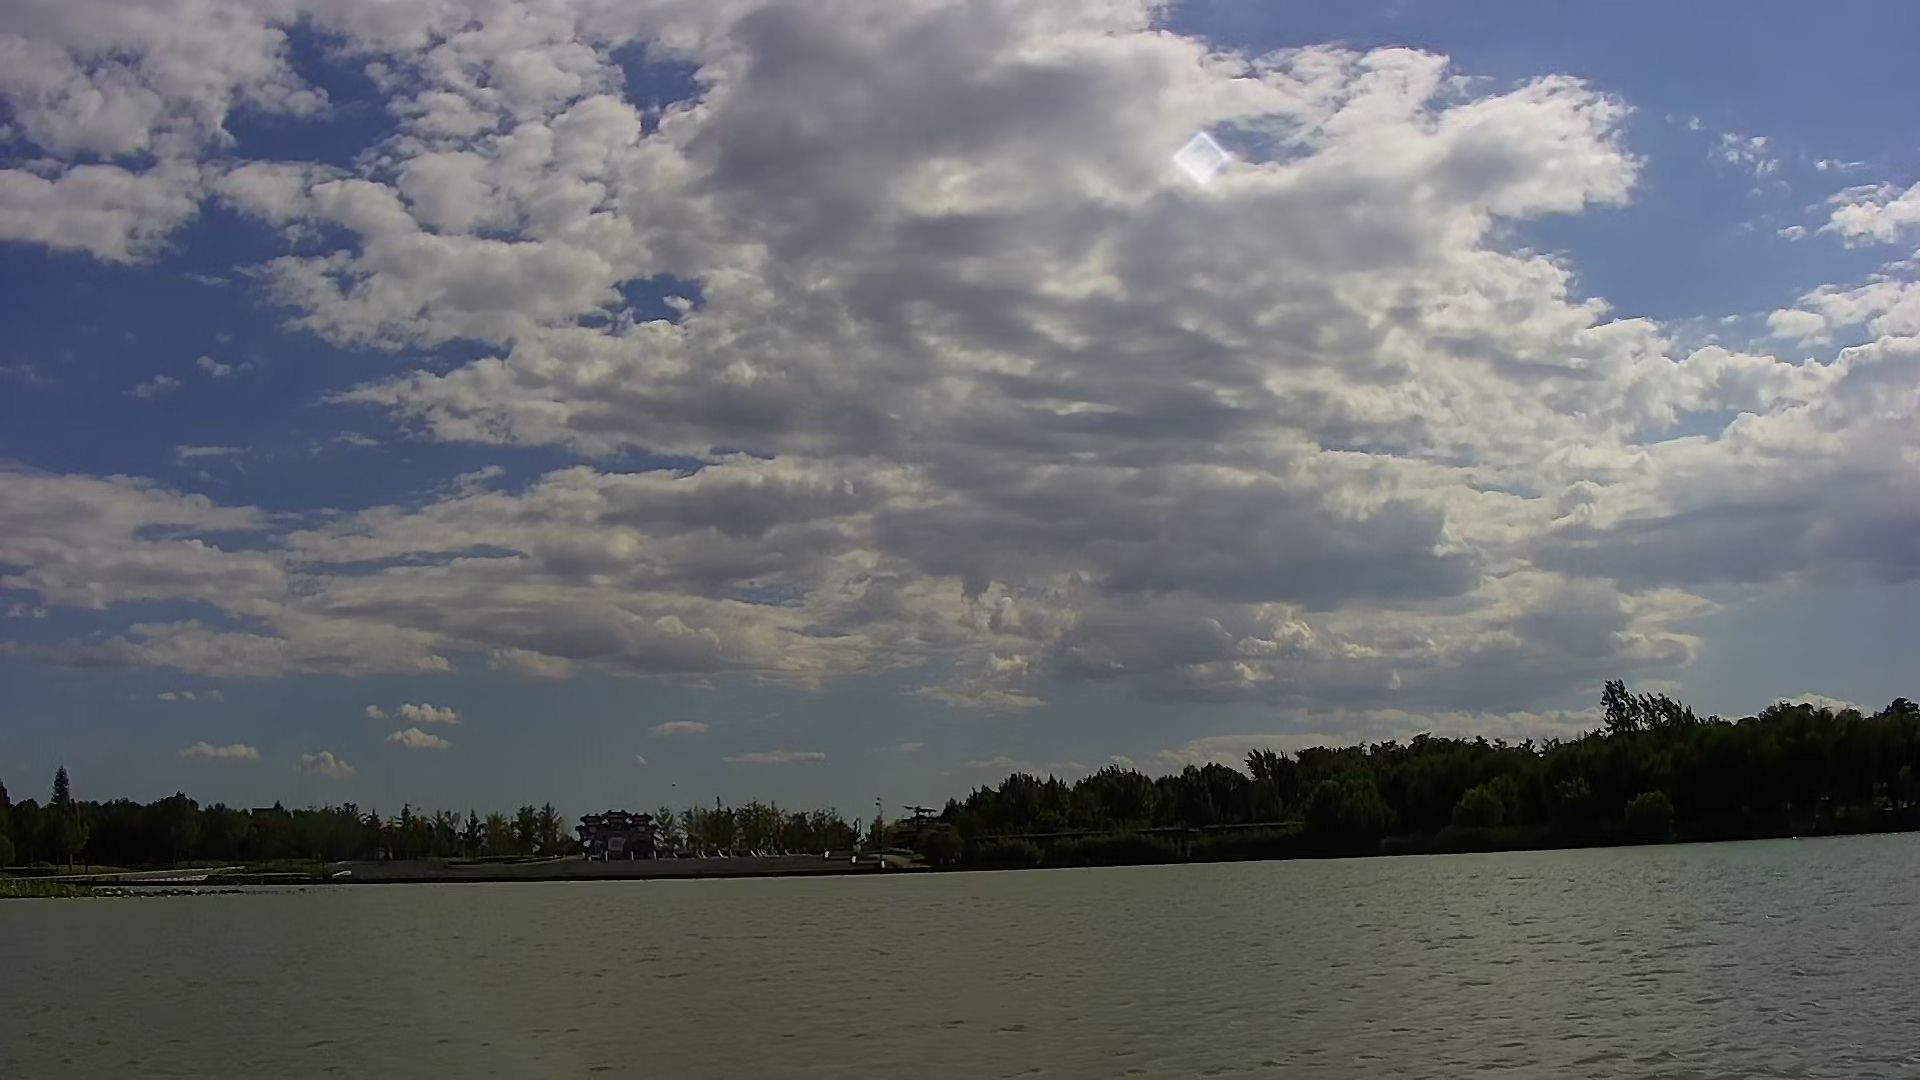harbor: (344, 843, 938, 897)
